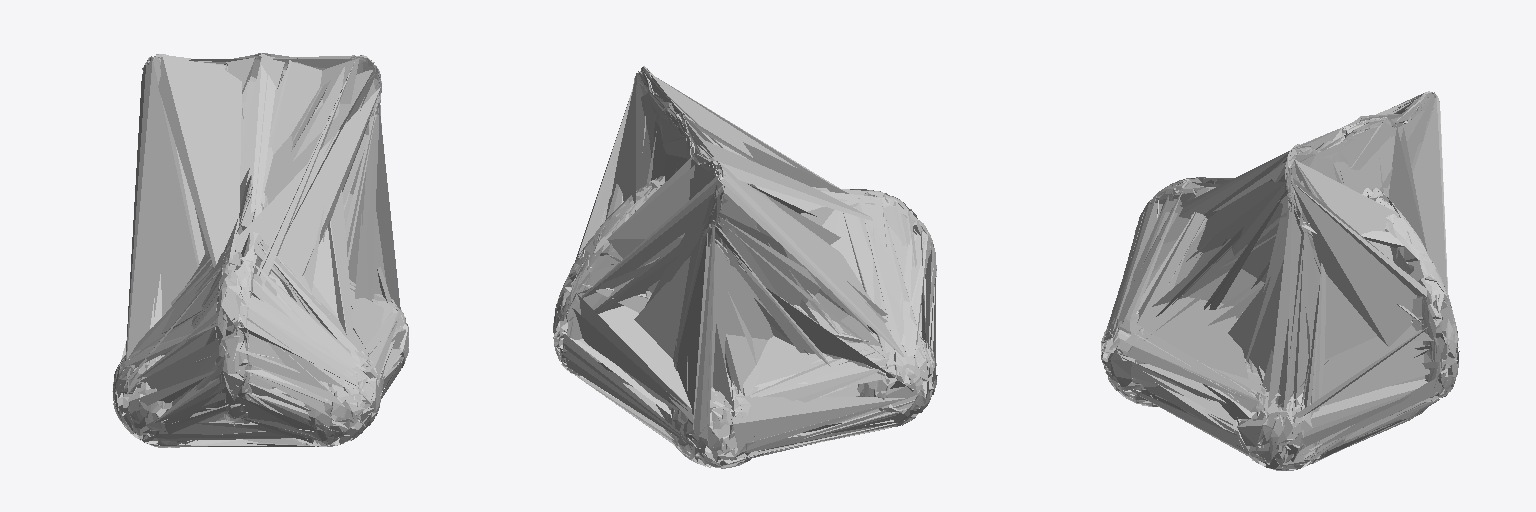
The model's file is elk.obj.
3 renders of one model, left to right at view 1: azimuth 30°, elevation 25°; view 2: azimuth 150°, elevation 25°; view 3: azimuth 270°, elevation 25°, orthographic.
Bounding box in the file's own units: 150 × 160 × 156.